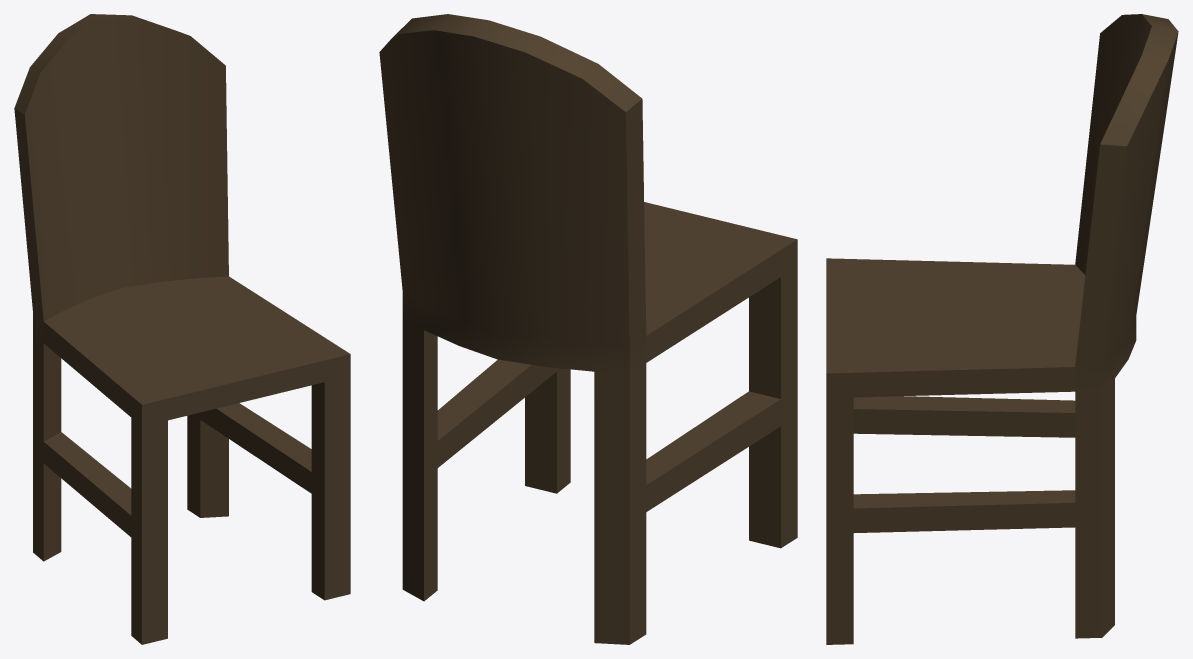
Rendered from PS_Chair01.fbx.
3 renders of one model, left to right at view 1: azimuth 30°, elevation 25°; view 2: azimuth 150°, elevation 25°; view 3: azimuth 270°, elevation 25°, orthographic. The views are drawn at different scales.
Visible parts, largest first — view 1: PS_Chair01; view 2: PS_Chair01; view 3: PS_Chair01.
Part boxes in pixels (x1,y1,x2,y2): PS_Chair01: [14, 14, 350, 644]; PS_Chair01: [379, 14, 797, 644]; PS_Chair01: [826, 14, 1178, 644].
Size of the model in its own units: 0.5 by 1.14 by 0.6465.
